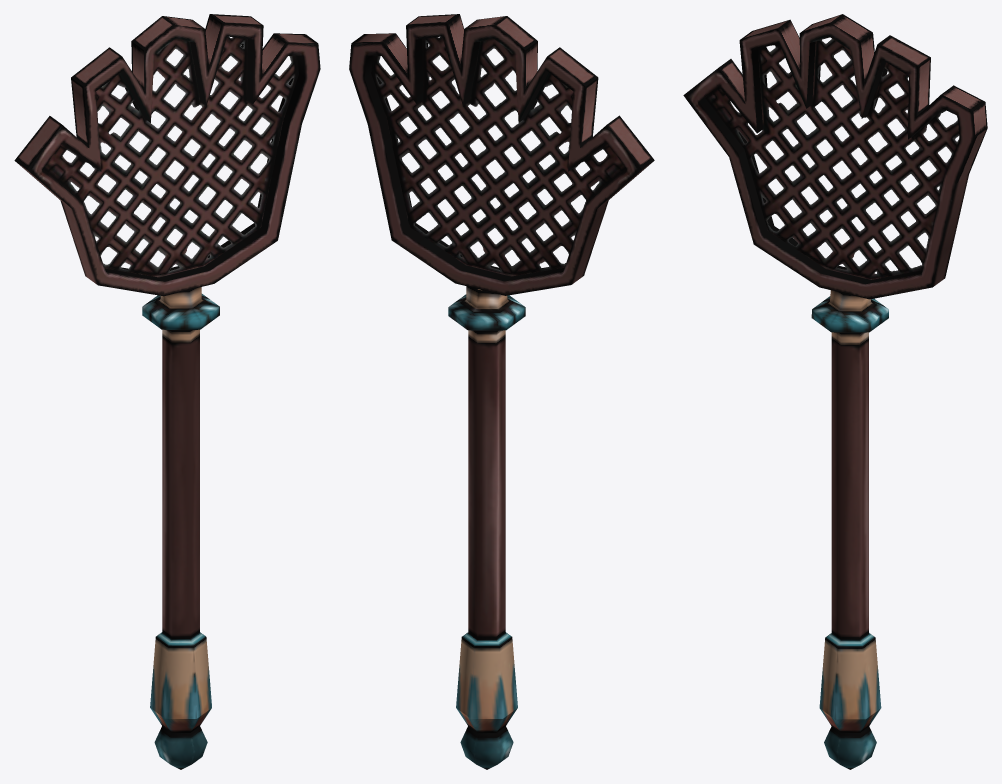
Rendered from WP_2H_Swatter_KS.FBX.
3 views of the same model, side by side, from view 1: azimuth 30°, elevation 25°; view 2: azimuth 150°, elevation 25°; view 3: azimuth 330°, elevation 25° (orthographic).
Visible parts, largest first — view 1: WP_2H_Swatter_KS; view 2: WP_2H_Swatter_KS; view 3: WP_2H_Swatter_KS.
Part boxes in pixels (left/top/right/bottom): WP_2H_Swatter_KS: left=14, top=14, right=320, bottom=769; WP_2H_Swatter_KS: left=349, top=14, right=654, bottom=769; WP_2H_Swatter_KS: left=683, top=14, right=987, bottom=769.
Bounding box in the file's own units: 43.96 × 108 × 10.08.
